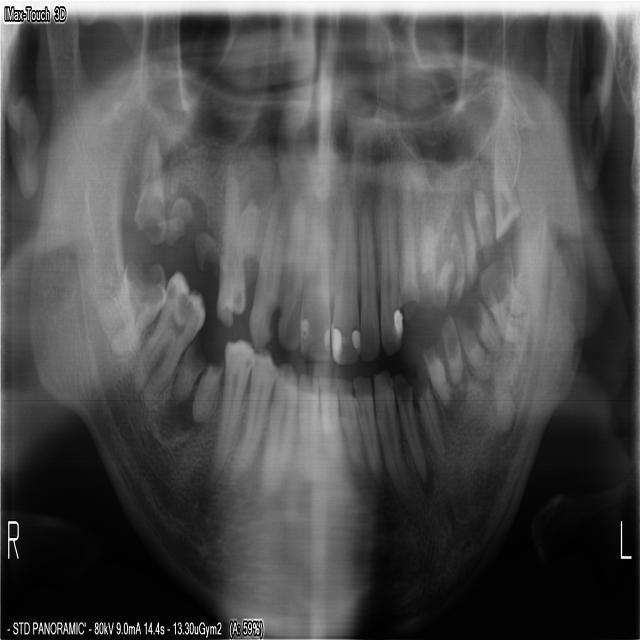LCD: (372, 364, 415, 514)
LCU: (377, 154, 404, 358)
LID: (351, 371, 385, 487), (338, 373, 369, 483)
LIU: (330, 174, 359, 369), (358, 194, 379, 365)
LMD: (478, 250, 528, 344)
LMU: (490, 125, 522, 248)
LPMD: (394, 367, 427, 487), (409, 364, 446, 462)
LPMU: (398, 162, 419, 321)
RCD: (256, 358, 296, 502)
RCU: (244, 181, 291, 354)
RID: (317, 371, 352, 478), (295, 369, 319, 486)
RIU: (298, 173, 329, 365), (275, 194, 306, 351)
RMD: (130, 265, 205, 412), (91, 250, 164, 358)
RMU: (130, 124, 166, 247)
RPMD: (202, 334, 250, 486), (227, 352, 273, 491)
RPMU: (212, 154, 246, 331)
